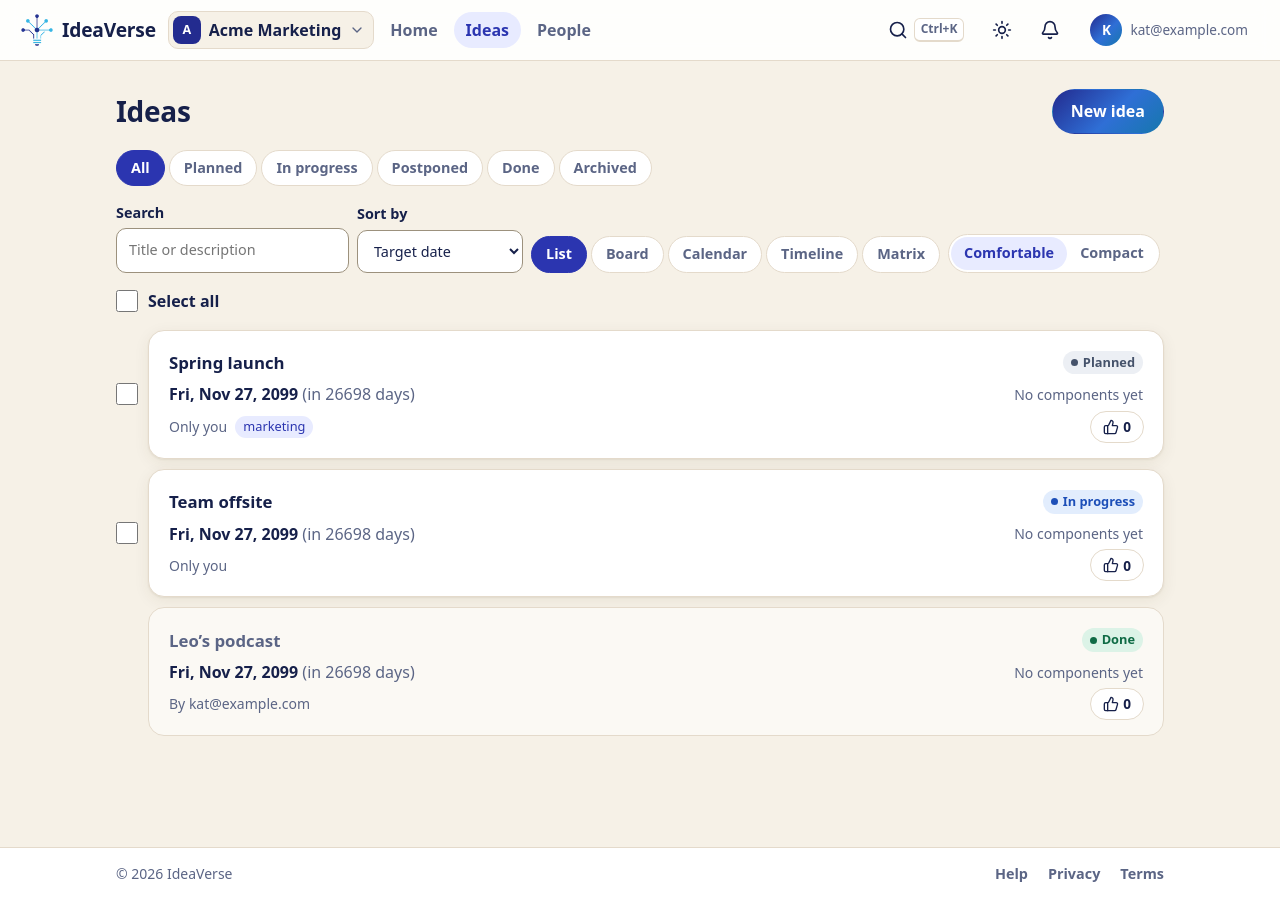
Test case: Board view › puts an idea back when the move fails
Click the button "Board" at point(627, 255), box x1=591 y1=236 x2=664 y2=273
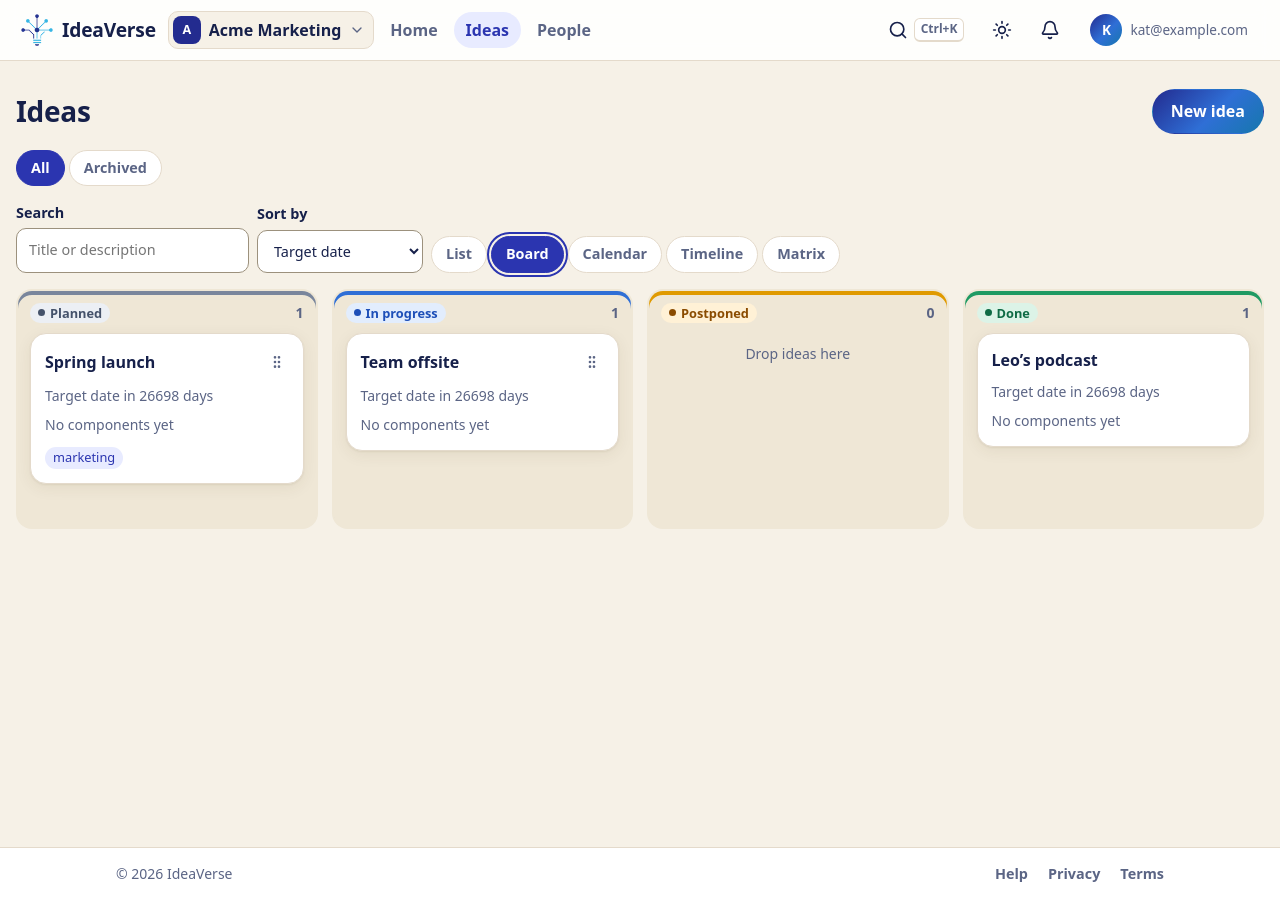
Click the button named "Move Spring launch" at point(276, 362), box x1=256 y1=342 x2=296 y2=382
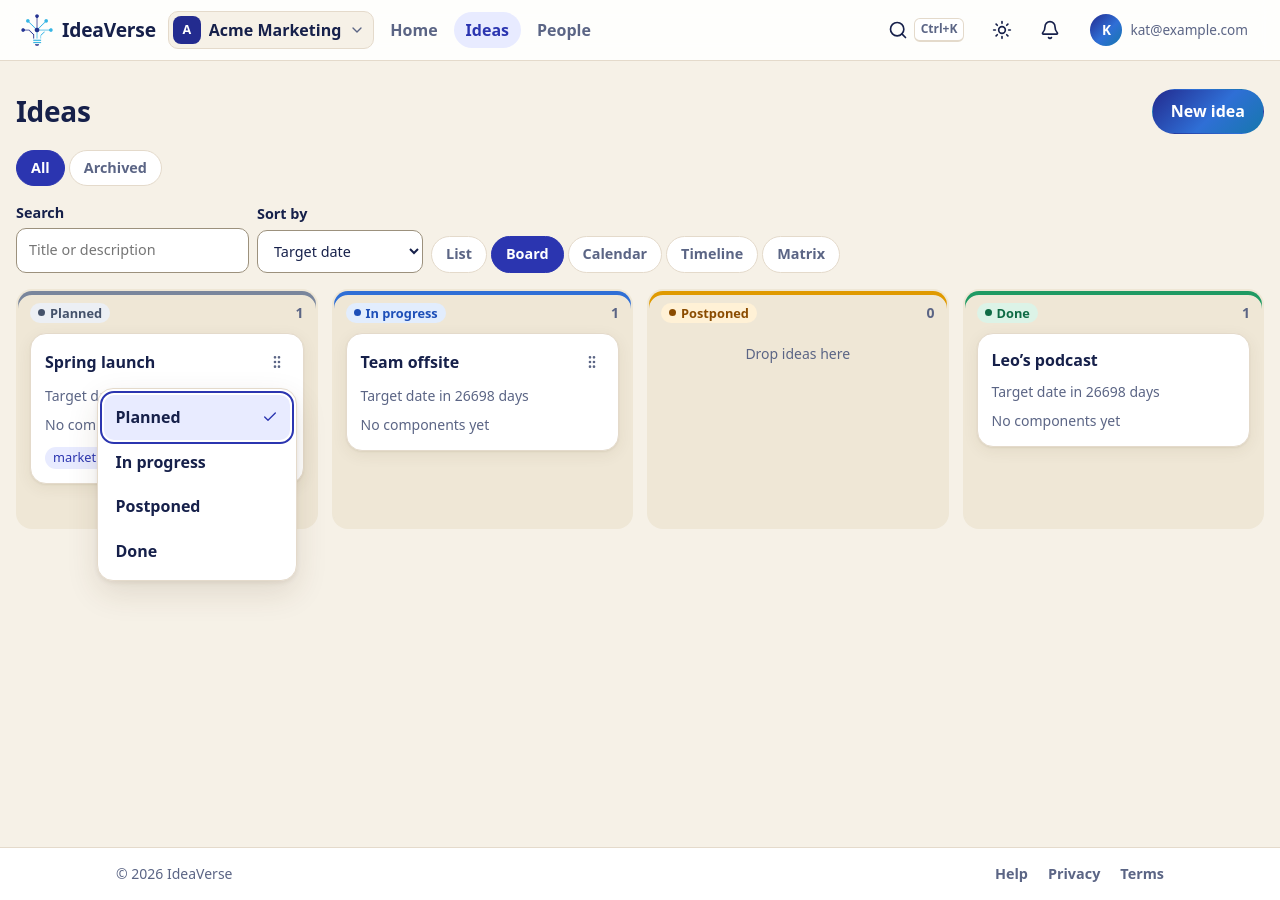
Click the menu item "Done" at point(196, 552), box x1=104 y1=529 x2=290 y2=574
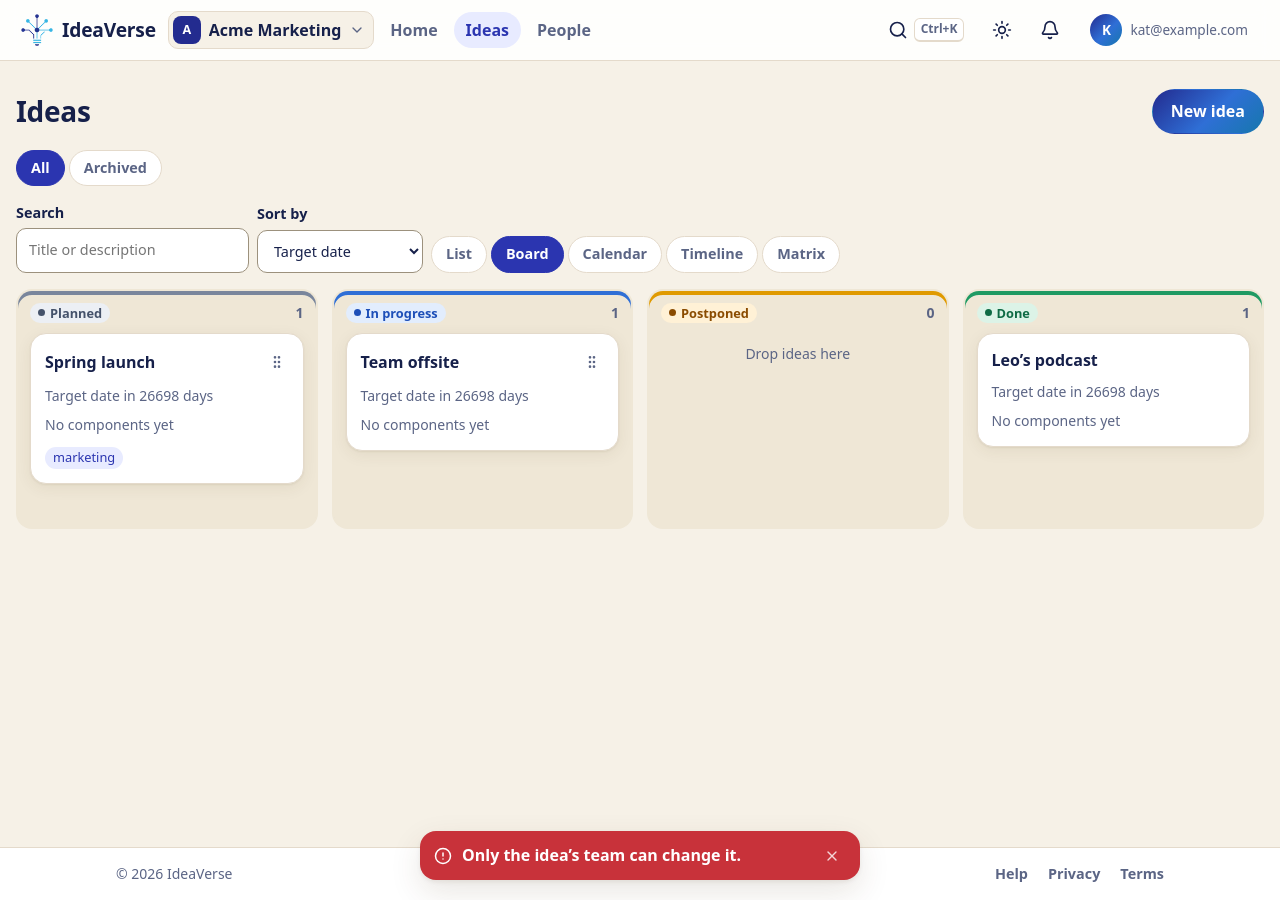
Expected: the link "Spring launch" is shown, x1=45 y1=350 x2=155 y2=374
Expected: the text "Only the idea’s team can change it." is shown, x1=462 y1=844 x2=741 y2=866
